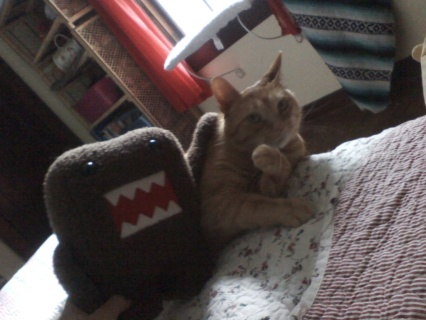Cat: (196, 49, 321, 247)
